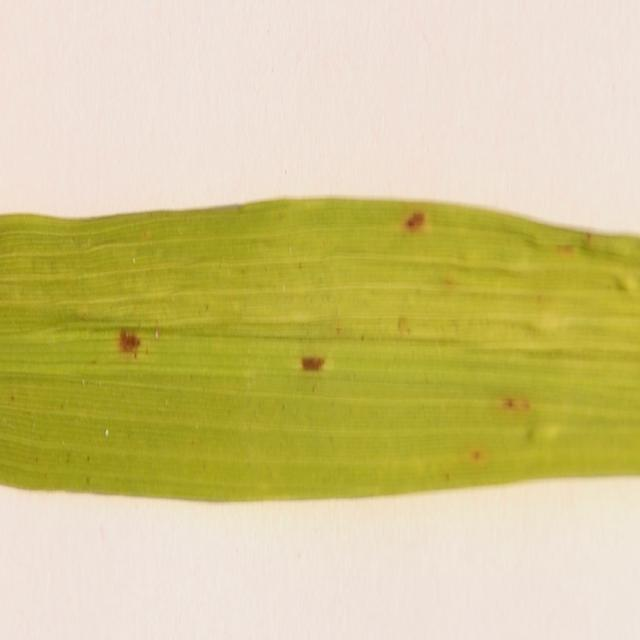brown spot: (111, 310, 150, 374), (296, 330, 331, 392), (400, 203, 432, 242)
